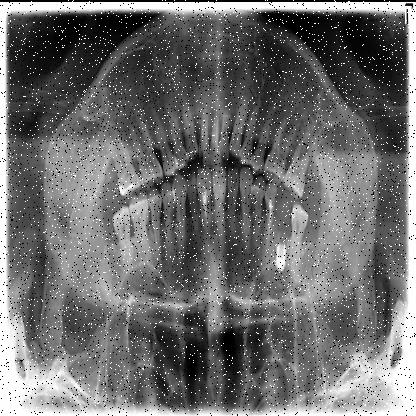Bicon: (276, 236, 288, 270)
